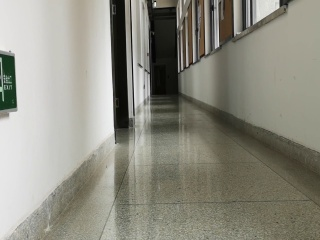room: (110, 1, 132, 138)
